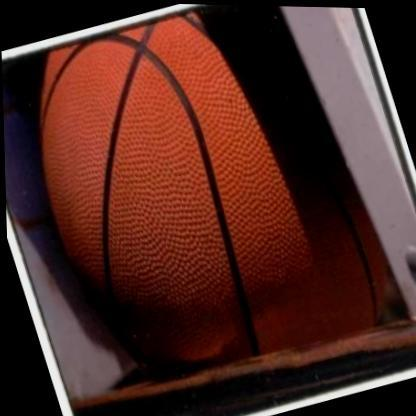basketball: (0, 0, 407, 411)
